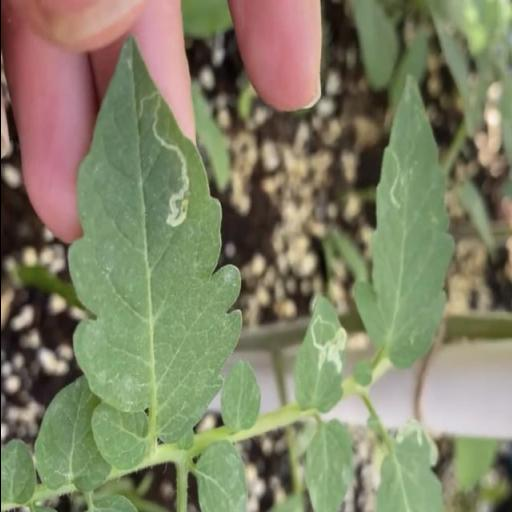disease_tomato: (66, 29, 242, 443), (350, 76, 456, 370), (290, 296, 350, 419)
